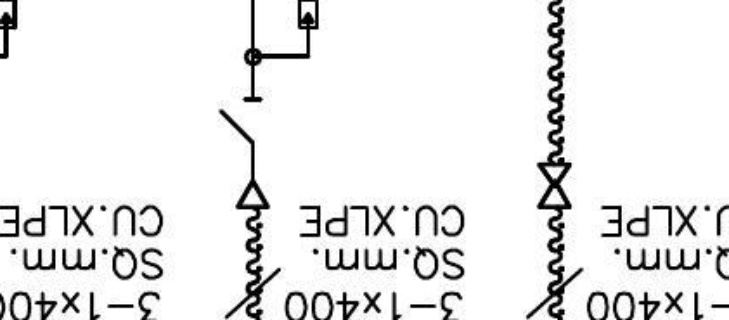terminator_single: (233, 179, 273, 212)
terminator_splicing_kits: (537, 162, 573, 210)
